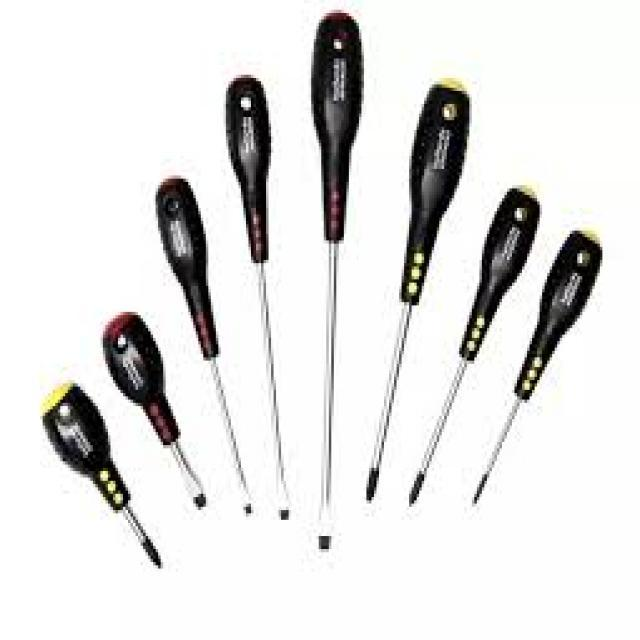screwdriver: (355, 68, 480, 524), (394, 177, 546, 532), (291, 0, 374, 570), (459, 223, 616, 518), (152, 175, 256, 534), (220, 68, 298, 526), (40, 372, 168, 585), (96, 306, 213, 524)
